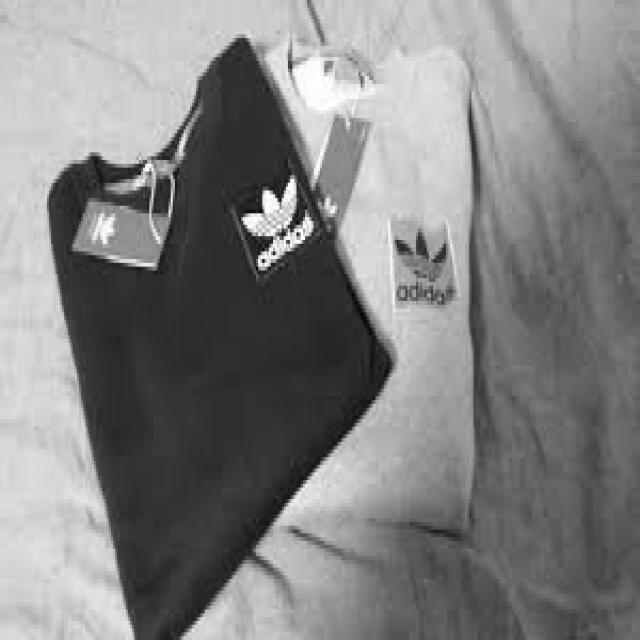Adidas: (237, 172, 303, 248), (391, 209, 451, 282), (96, 213, 120, 258), (314, 190, 338, 225)
